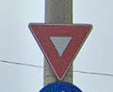cedeaza: (25, 17, 94, 84)
